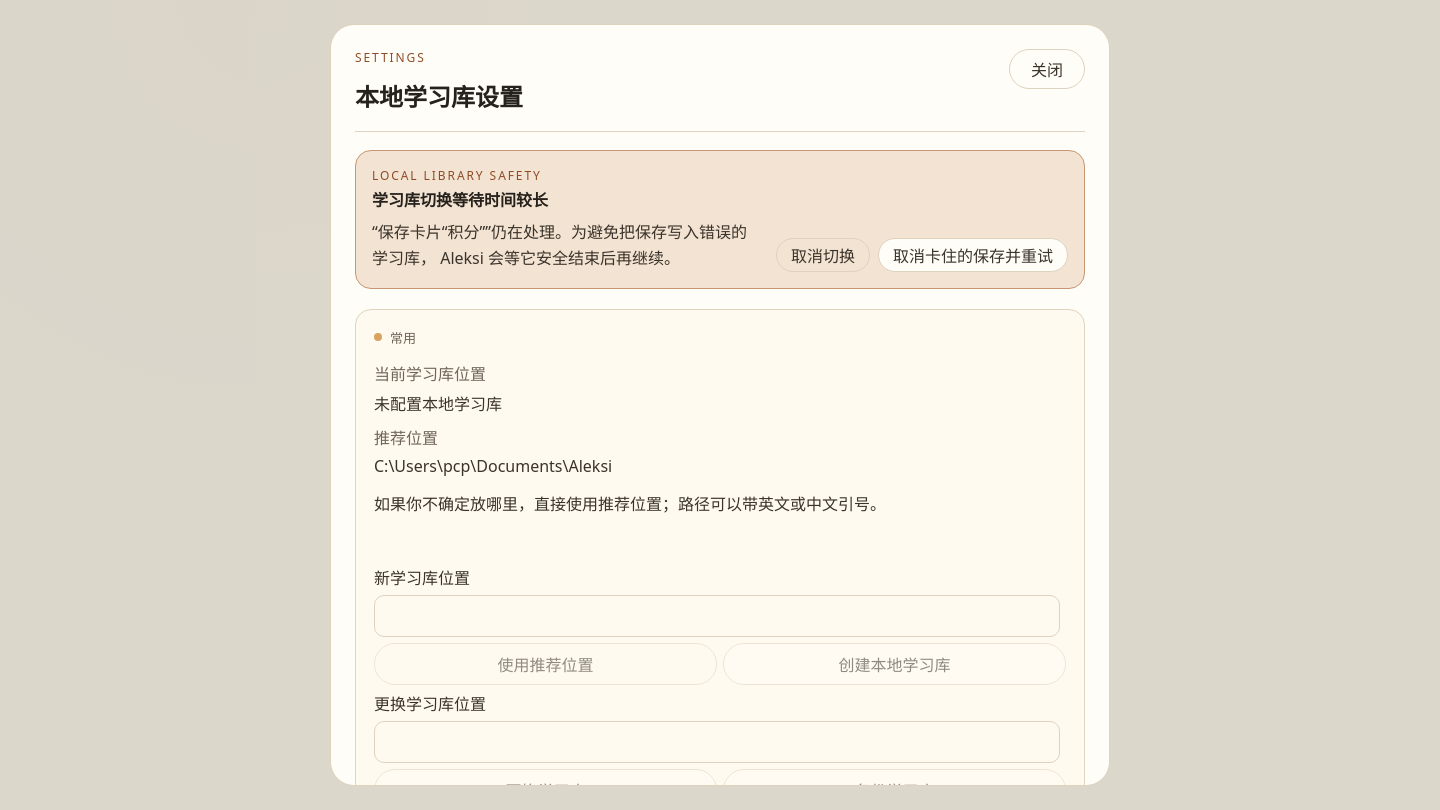
Scenario: settings delayed-switch recovery › cancels a safe stuck save from Settings and continues the pending switch
Expected: the text "“保存卡片“积分””仍在处理。为避免把保存写入错误的学习库， Aleksi 会等它安全结束后再继续。" is shown, 372,219 -> 758,272
Click the button "取消卡住的保存并重试".
click(973, 255)  # box 878,238 -> 1068,272
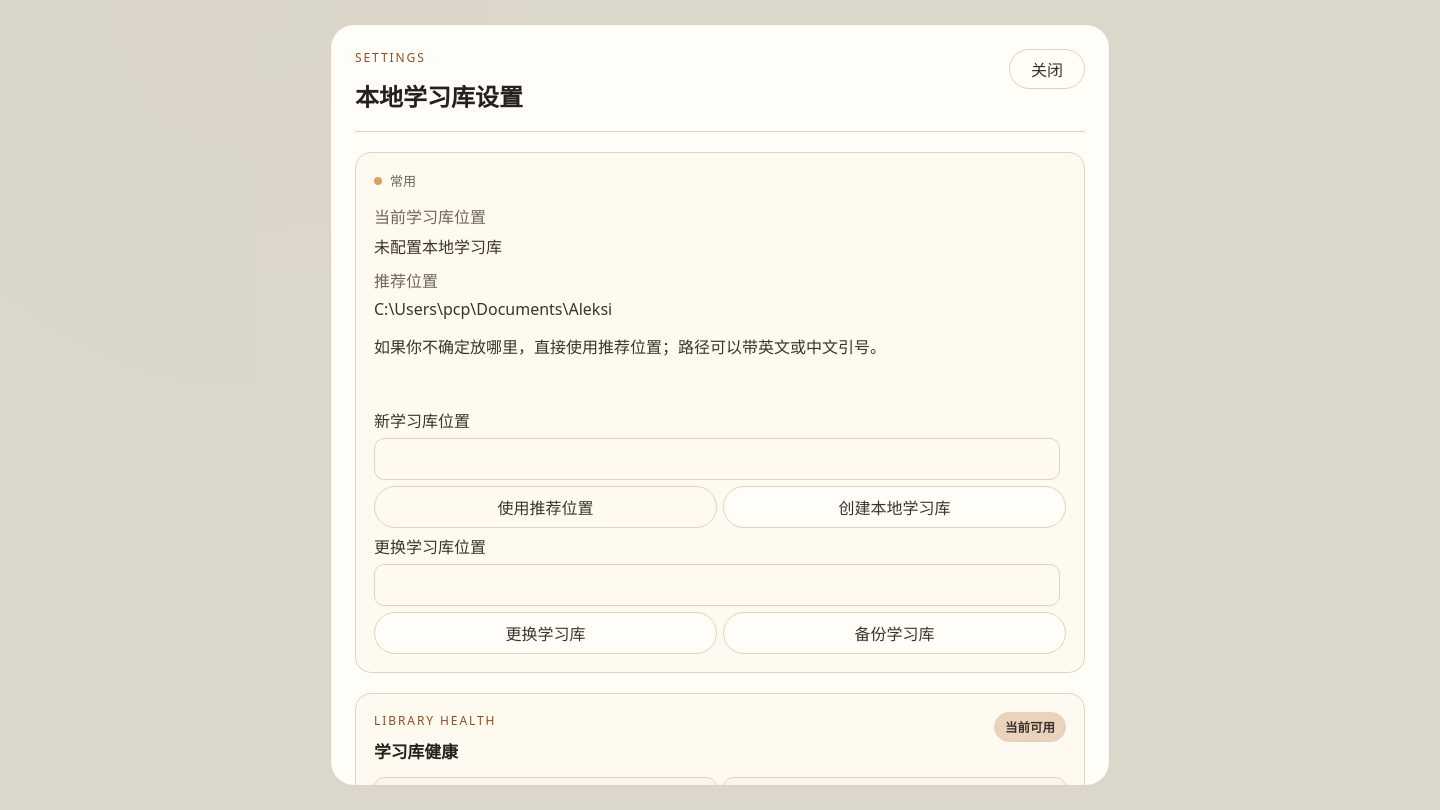
Now the heading "学习库切换等待时间较长" is gone
